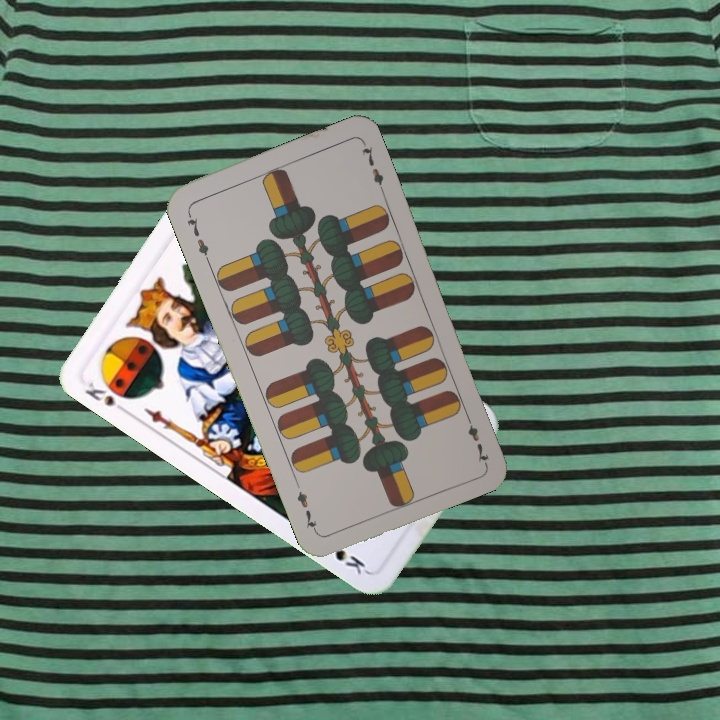E7: (461, 409, 492, 466), (183, 207, 212, 264)
SK: (80, 378, 131, 416)
